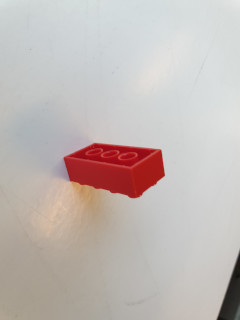2x4 red: (62, 141, 167, 200)
